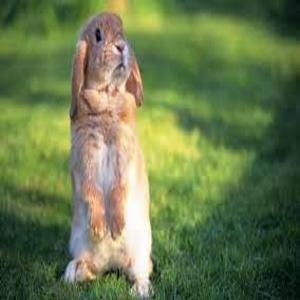rabbit: (63, 13, 154, 297)
